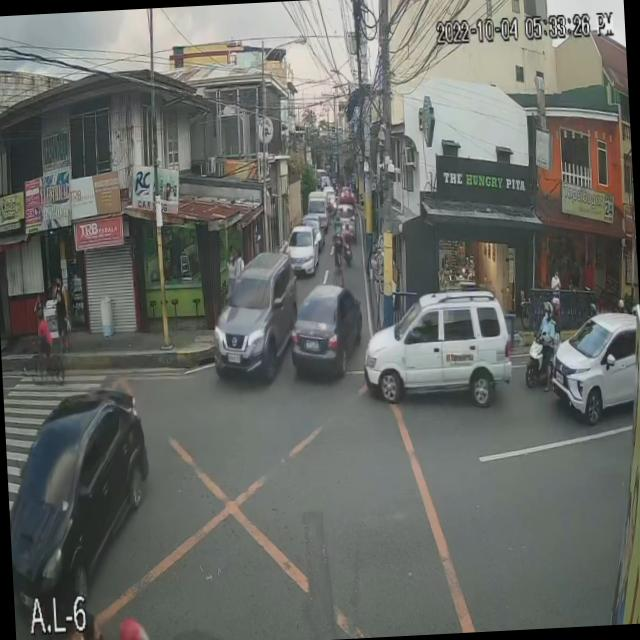half: (542, 300, 553, 322), (551, 294, 561, 312)
